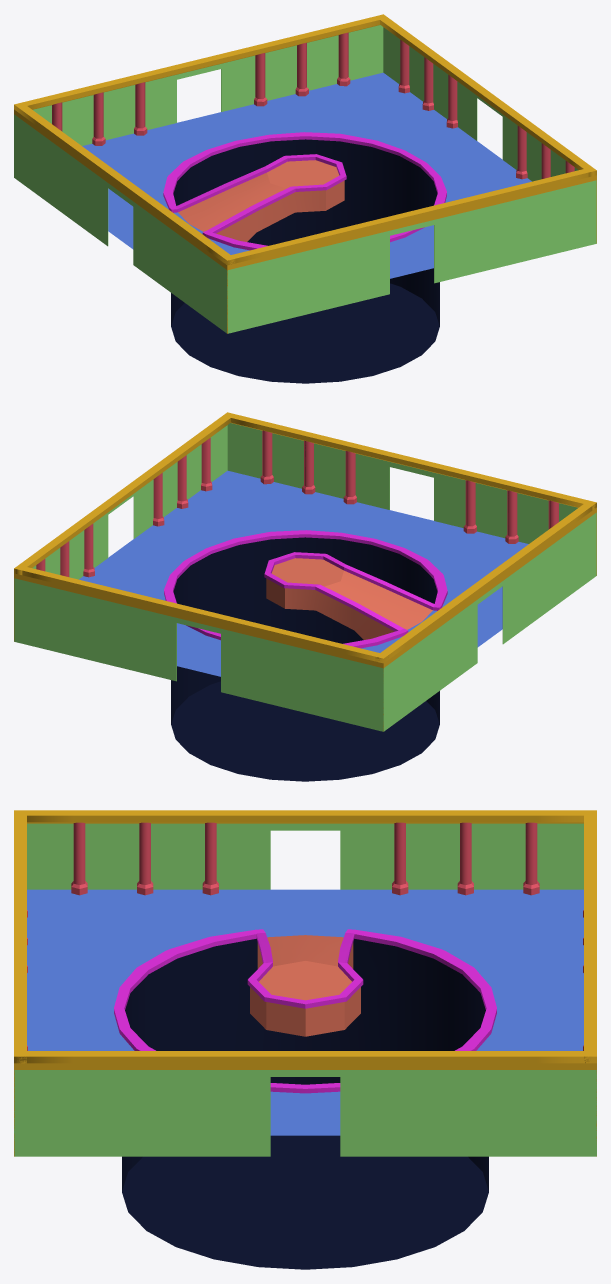
File: CRoom.fbx
3 views of the same model, one above another, from view 1: azimuth 30°, elevation 25°; view 2: azimuth 150°, elevation 25°; view 3: azimuth 270°, elevation 25° (orthographic). The views are drawn at different scales.
Visible parts, largest first — view 1: CFloor, CFloorPit, WallSouth, WallNorth, WallWest, WallEast; view 2: CFloor, CFloorPit, WallNorth, WallSouth, WallWest, WallEast; view 3: CFloor, CFloorPit, WallEast, WallWest, WallSouth, WallNorth.
Part boxes in pixels (left/top/right/bottom): CFloor: left=82, top=72, right=531, bottom=278; CFloorPit: left=171, top=139, right=439, bottom=383; WallSouth: left=224, top=167, right=596, bottom=333; WallNorth: left=17, top=14, right=387, bottom=145; WallWest: left=14, top=103, right=235, bottom=333; WallEast: left=376, top=14, right=596, bottom=243; CFloor: left=79, top=470, right=528, bottom=676; CFloorPit: left=171, top=537, right=439, bottom=781; WallNorth: left=14, top=565, right=387, bottom=731; WallSouth: left=223, top=412, right=596, bottom=575; WallWest: left=375, top=501, right=596, bottom=731; WallEast: left=14, top=412, right=234, bottom=641; CFloor: left=27, top=889, right=583, bottom=1135; CFloorPit: left=122, top=938, right=488, bottom=1269; WallEast: left=14, top=1051, right=596, bottom=1156; WallWest: left=14, top=810, right=596, bottom=895; WallSouth: left=14, top=810, right=27, bottom=1156; WallNorth: left=583, top=810, right=596, bottom=1156.
Size of the model in its own units: 3003 by 1471 by 3003.
